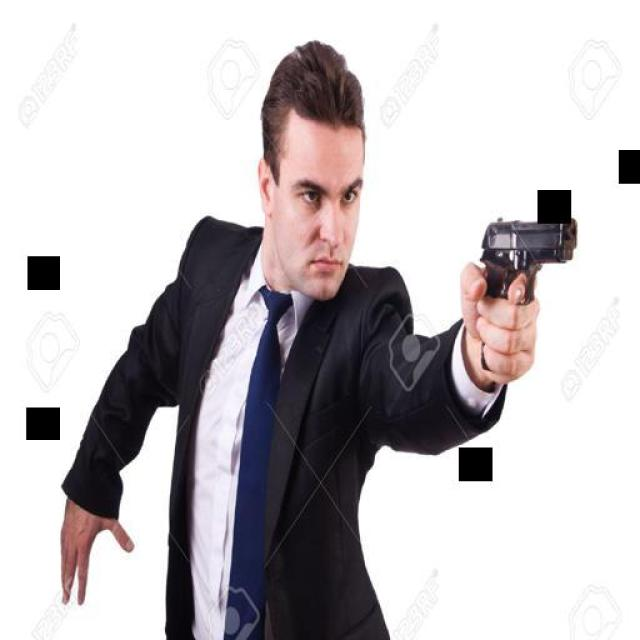gun: (475, 212, 577, 372)
